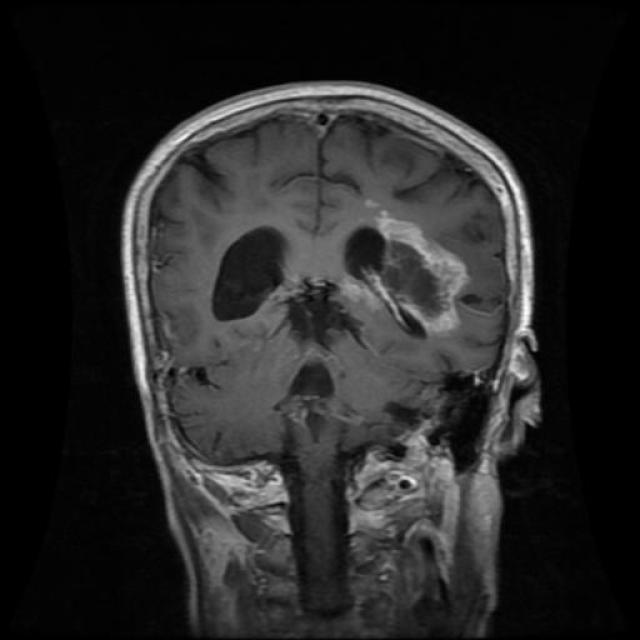glioma: (345, 216, 471, 336), (208, 224, 292, 326)
